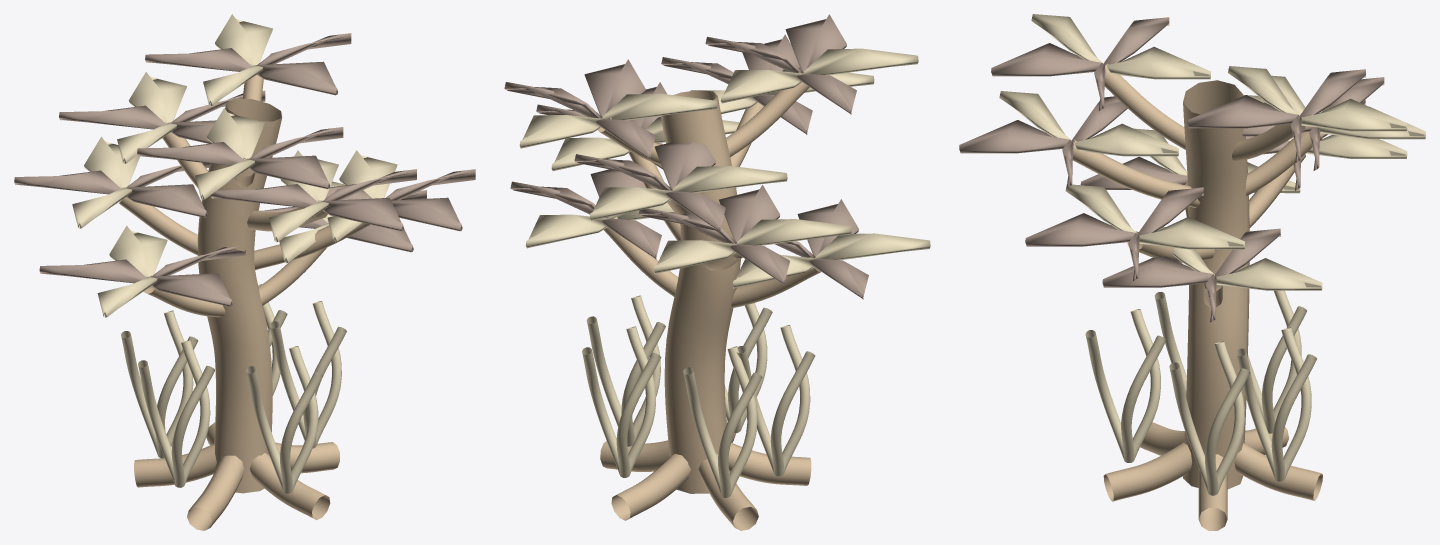
The model's file is bio_canopy_tree_14_near.glb.
3 views of the same model, side by side, from view 1: azimuth 30°, elevation 25°; view 2: azimuth 150°, elevation 25°; view 3: azimuth 270°, elevation 25° (orthographic). The views are drawn at different scales.
Visible parts, largest first — view 1: Buttressed trunk, Broad canopy leaf.035, Broad canopy leaf.015, Broad canopy leaf.010, Broad canopy leaf.020, Spiral filament.006, Spiral filament.012, Broad canopy leaf.005, Spiral filament, Spiral filament.003, Broad canopy leaf.030, Broad canopy leaf.021 (+10 smaller); view 2: Buttressed trunk, Broad canopy leaf.015, Broad canopy leaf.035, Broad canopy leaf.005, Broad canopy leaf.030, Spiral filament.009, Spiral filament.003, Broad canopy leaf.006, Broad canopy leaf.031, Broad canopy leaf.016, Broad canopy leaf.036, Spiral filament.012 (+10 smaller); view 3: Buttressed trunk, Spiral filament, Spiral filament.006, Spiral filament.009, Broad canopy leaf.035, Broad canopy leaf.015, Broad canopy leaf.025, Broad canopy leaf, Broad canopy leaf.010, Broad canopy leaf.016, Broad canopy leaf.011, Broad canopy leaf.026 (+9 smaller).
Boxes of the visible parts, <box> form: Buttressed trunk: <box>119,75,370,530</box>; Broad canopy leaf.035: <box>137,127,343,189</box>; Broad canopy leaf.015: <box>145,33,351,95</box>; Broad canopy leaf.010: <box>211,169,416,231</box>; Broad canopy leaf.020: <box>39,246,245,306</box>; Spiral filament.006: <box>246,346,323,493</box>; Spiral filament.012: <box>138,340,215,487</box>; Broad canopy leaf.005: <box>14,162,210,217</box>; Spiral filament: <box>269,301,346,448</box>; Spiral filament.003: <box>121,310,197,458</box>; Broad canopy leaf.030: <box>59,90,265,143</box>; Broad canopy leaf.021: <box>97,225,167,317</box>; Buttressed trunk: <box>598,71,820,530</box>; Broad canopy leaf.015: <box>504,59,655,159</box>; Broad canopy leaf.035: <box>705,14,856,114</box>; Broad canopy leaf.005: <box>638,185,789,284</box>; Broad canopy leaf.030: <box>574,141,725,232</box>; Spiral filament.009: <box>582,326,661,477</box>; Spiral filament.003: <box>683,346,762,497</box>; Broad canopy leaf.006: <box>654,219,851,273</box>; Broad canopy leaf.031: <box>589,166,787,220</box>; Broad canopy leaf.016: <box>519,93,717,148</box>; Broad canopy leaf.036: <box>720,48,918,103</box>; Spiral filament.012: <box>736,325,815,476</box>; Buttressed trunk: <box>1073,64,1322,530</box>; Spiral filament: <box>1169,341,1250,495</box>; Spiral filament.006: <box>1085,309,1166,462</box>; Spiral filament.009: <box>1236,327,1316,481</box>; Broad canopy leaf.035: <box>991,17,1169,110</box>; Broad canopy leaf.015: <box>1187,69,1365,163</box>; Broad canopy leaf.025: <box>1025,187,1203,281</box>; Broad canopy leaf: <box>1102,228,1280,322</box>; Broad canopy leaf.010: <box>959,96,1127,187</box>; Broad canopy leaf.016: <box>1228,66,1407,131</box>; Broad canopy leaf.011: <box>999,91,1178,156</box>; Broad canopy leaf.026: <box>1065,184,1244,249</box>.
Bounding box in the file's own units: 2.97 × 2.99 × 3.05.
